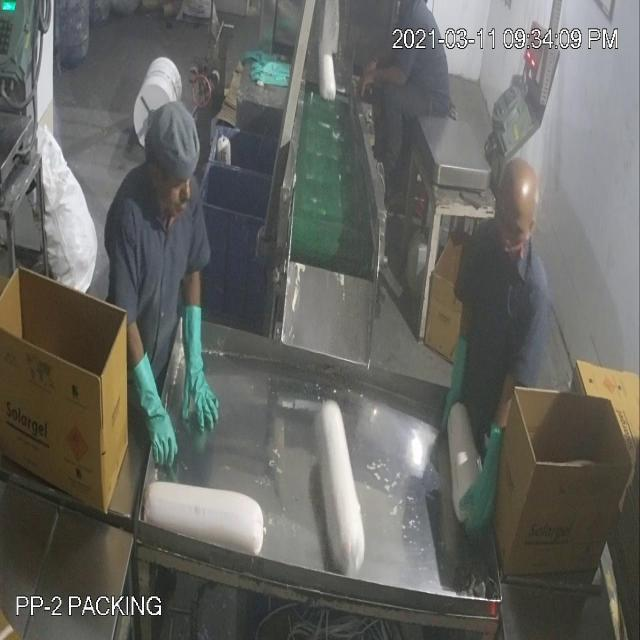No_Gloves: (34, 70, 481, 476)
